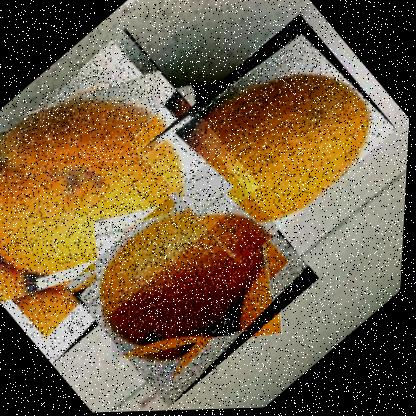orange: (0, 23, 268, 366), (136, 12, 403, 270), (63, 153, 327, 411)
